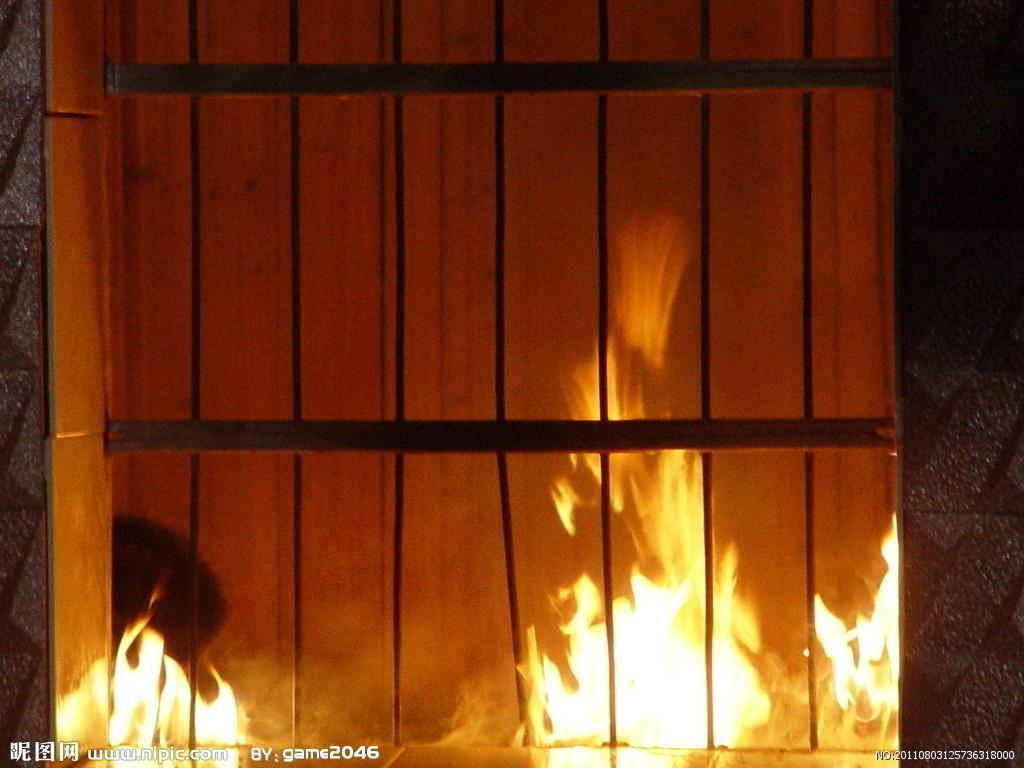fire: (536, 205, 771, 765), (799, 493, 900, 736), (112, 604, 246, 752)
